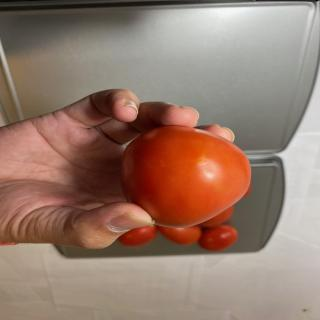Chilli: (119, 125, 252, 228)
Tomato: (199, 224, 238, 251), (158, 224, 202, 246), (118, 224, 158, 246), (199, 205, 234, 227)
